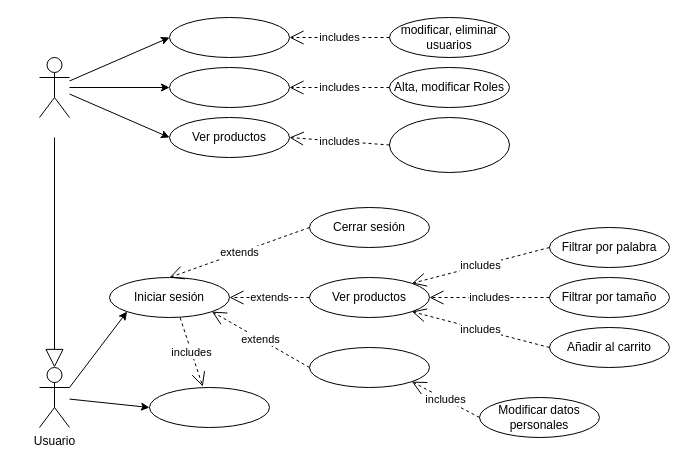
Some shapes in this 687 by 466 pixel diagram are drawn without their labels. Here are the shapes that lost their labels. From the top down, the centre of each, then its label:
At (229,37): "Ver usuarios Registrados".
At (54,87): "Administrador".
At (229,87): "Ver Roles".
At (449,144): "Modificar, alta, eliminar productos".
At (369,367): "Ver datos personales".
At (209,407): "Registrarse".
